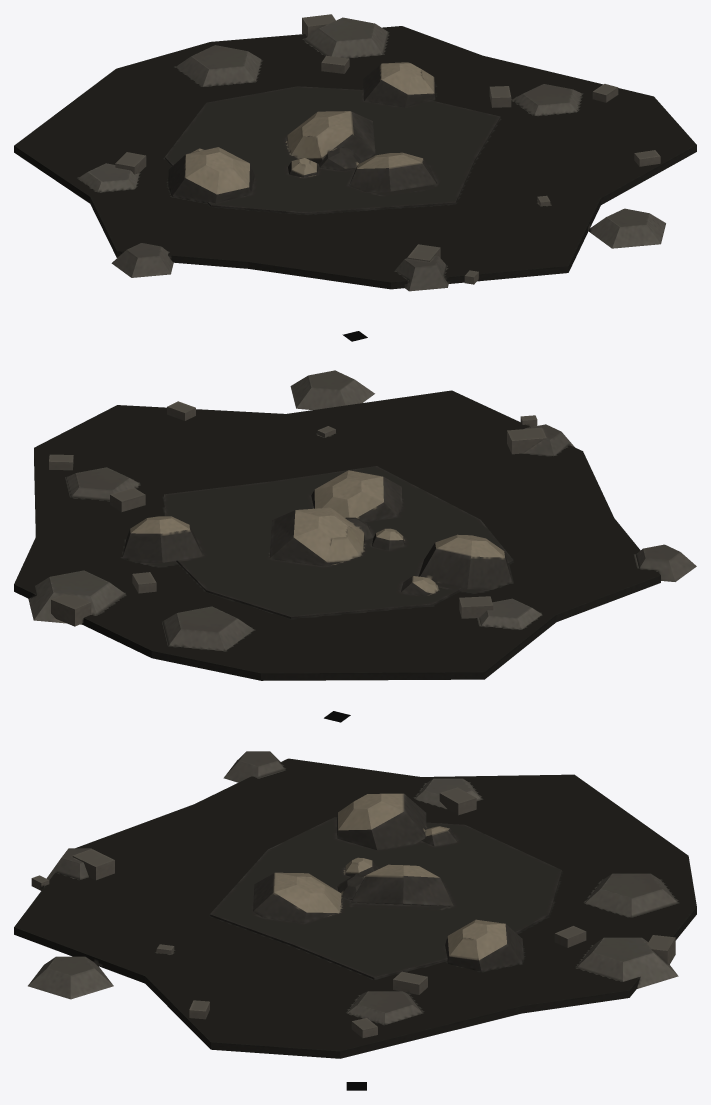
The model's file is deposit_3.fbx.
3 views of the same model, one above another, from view 1: azimuth 30°, elevation 25°; view 2: azimuth 150°, elevation 25°; view 3: azimuth 270°, elevation 25° (orthographic). The views are drawn at different scales.
Visible parts, largest first — view 1: base_bar; view 2: base_bar; view 3: base_bar.
Boxes of the visible parts, left/top/right/bottom form: base_bar: left=14, top=14, right=696, bottom=291; base_bar: left=14, top=370, right=696, bottom=680; base_bar: left=14, top=751, right=696, bottom=1058.
Bounding box in the file's own units: 695 × 240 × 673.
2 materials, 2 textured.
